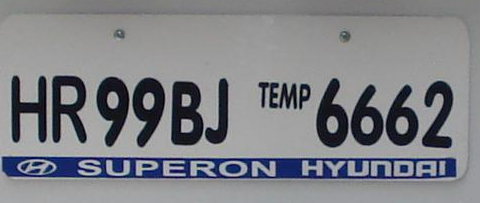2: (421, 80, 453, 150)
6: (315, 77, 349, 149), (385, 83, 419, 148), (351, 84, 384, 147)
9: (96, 75, 130, 148), (132, 77, 166, 149)
A: (415, 159, 438, 177)
B: (170, 79, 204, 147)
D: (392, 160, 415, 177)
E: (161, 158, 187, 177), (269, 81, 279, 109)
H: (9, 73, 48, 144), (301, 157, 325, 177)
I: (438, 160, 448, 177)
J: (205, 78, 229, 145)
M: (279, 81, 298, 110)
N: (250, 160, 278, 177), (369, 159, 393, 177)
O: (219, 158, 248, 177)
P: (134, 158, 159, 177), (297, 83, 312, 112)
R: (51, 74, 89, 144), (189, 159, 218, 178)
S: (76, 157, 102, 176)
T: (257, 81, 269, 109)
U: (105, 158, 131, 177), (347, 159, 370, 177)
Y: (324, 159, 347, 177)
